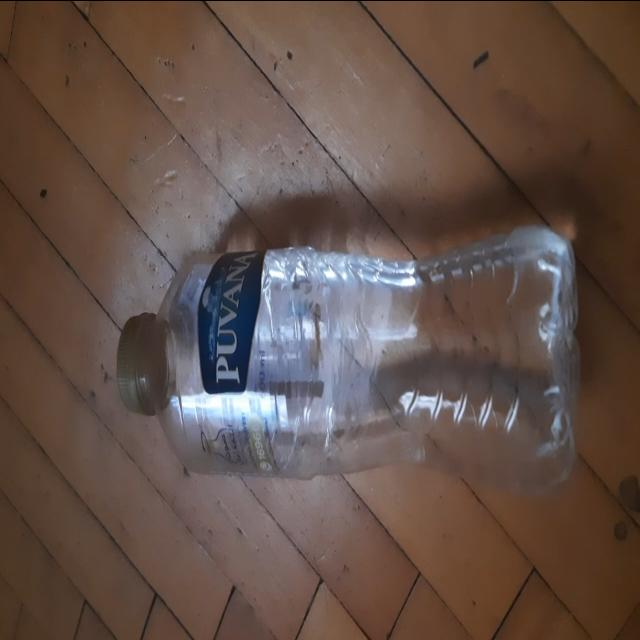Plastic: (116, 223, 585, 497)
